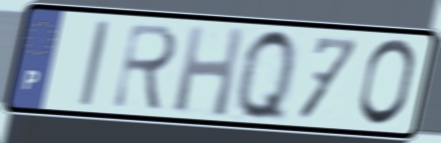7: (296, 33, 361, 123)
H: (170, 22, 248, 121)
I: (76, 18, 113, 109)
O: (355, 36, 419, 130)
Q: (234, 25, 299, 128)
R: (108, 20, 182, 114)
